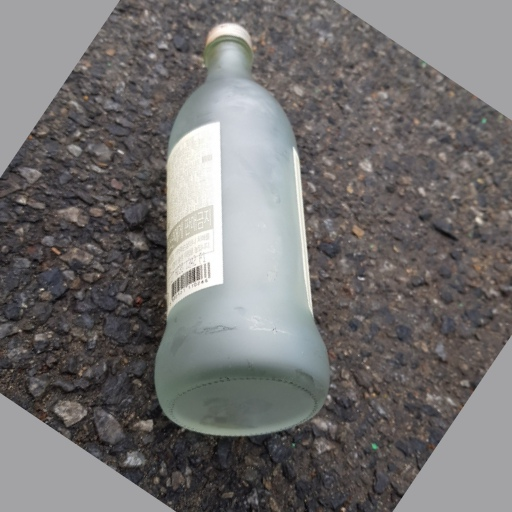Glass_0: (156, 19, 331, 436)
